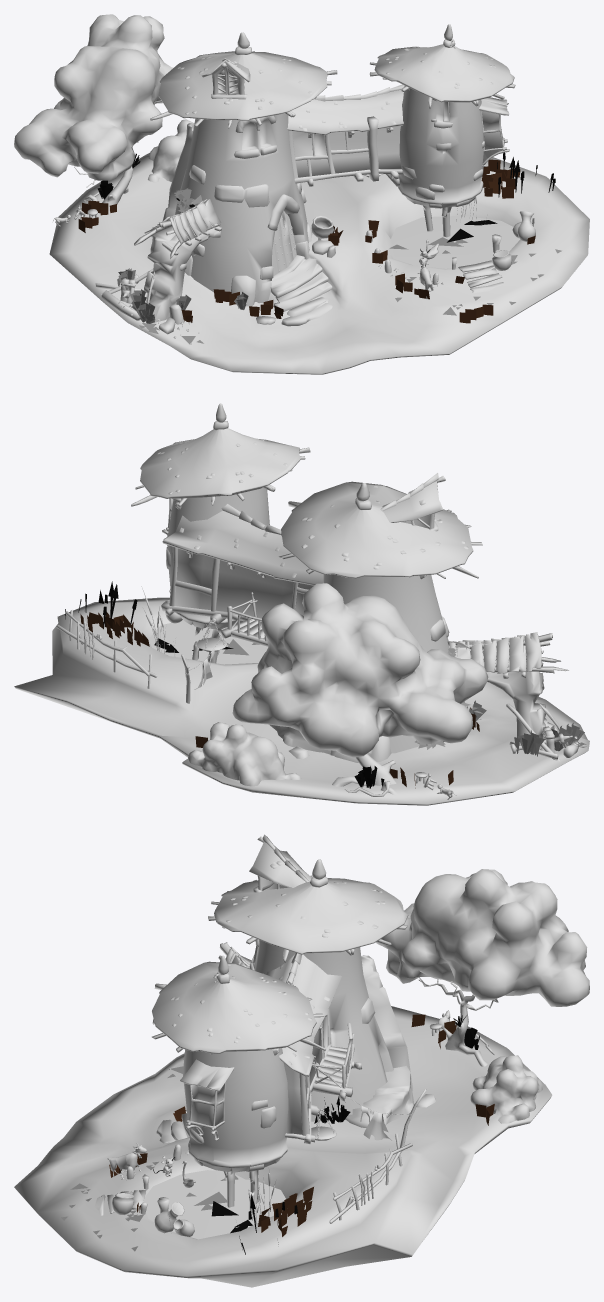
Rendered from tol.fbx.
3 views of the same model, one above another, from view 1: azimuth 30°, elevation 25°; view 2: azimuth 150°, elevation 25°; view 3: azimuth 270°, elevation 25° (orthographic). The views are drawn at different scales.
Visible parts, largest first — view 1: tol, grass, plants, plants_dark; view 2: tol, plants, grass, plants_dark; view 3: tol, grass, plants_dark, plants.
Part boxes in pixels (x1,y1,x2,y2): tol: [14, 14, 589, 374]; grass: [78, 159, 535, 323]; plants: [117, 150, 561, 344]; plants_dark: [97, 152, 555, 242]; tol: [14, 403, 589, 805]; plants: [223, 639, 586, 756]; grass: [80, 612, 479, 788]; plants_dark: [65, 581, 443, 788]; tol: [14, 834, 589, 1287]; grass: [109, 1014, 494, 1236]; plants_dark: [211, 1015, 479, 1254]; plants: [61, 1066, 238, 1251].
Size of what is drawn, in the model's own units: 814 by 516 by 770.
